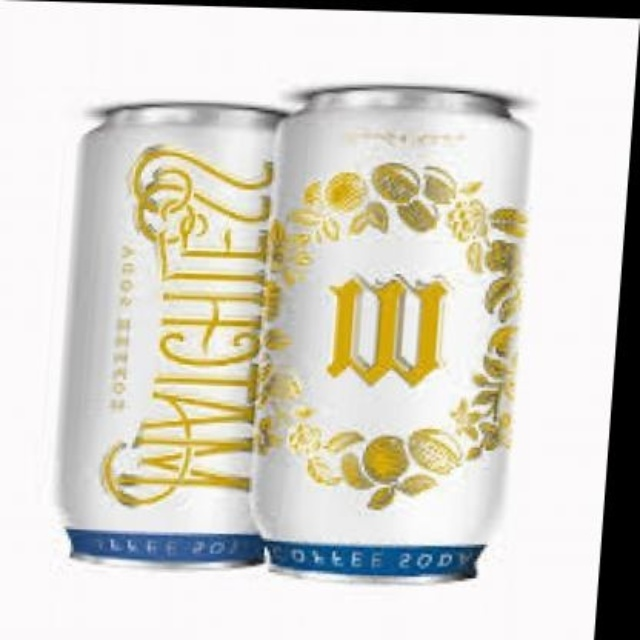trash: (254, 86, 528, 575), (62, 103, 282, 560)
